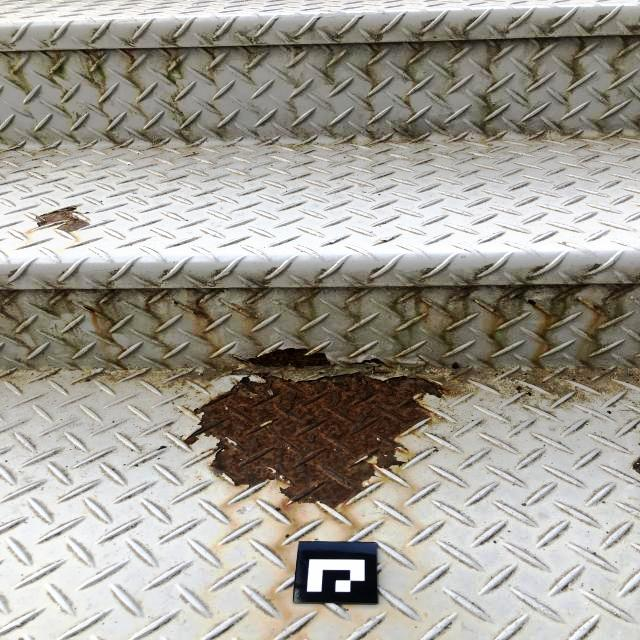Corrosion: (183, 370, 453, 512), (231, 347, 332, 369), (35, 205, 92, 233), (191, 289, 226, 328), (353, 358, 396, 375), (404, 287, 434, 309), (527, 299, 553, 322), (473, 300, 501, 316), (504, 286, 535, 300), (230, 306, 259, 320), (79, 50, 96, 66), (581, 300, 601, 313), (459, 286, 479, 299), (146, 289, 166, 302), (120, 49, 136, 65), (417, 355, 432, 368), (630, 457, 640, 475), (160, 48, 179, 56), (82, 304, 97, 313), (250, 290, 263, 299), (159, 291, 171, 299), (230, 366, 241, 374), (444, 313, 456, 319), (40, 51, 51, 57), (487, 333, 495, 340), (563, 290, 572, 296), (172, 300, 179, 306), (11, 51, 22, 54), (254, 367, 262, 371), (561, 241, 568, 245), (393, 128, 400, 132), (184, 288, 192, 291), (54, 290, 59, 294), (632, 298, 636, 301)
